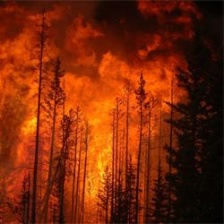fire: (14, 88, 149, 223)
